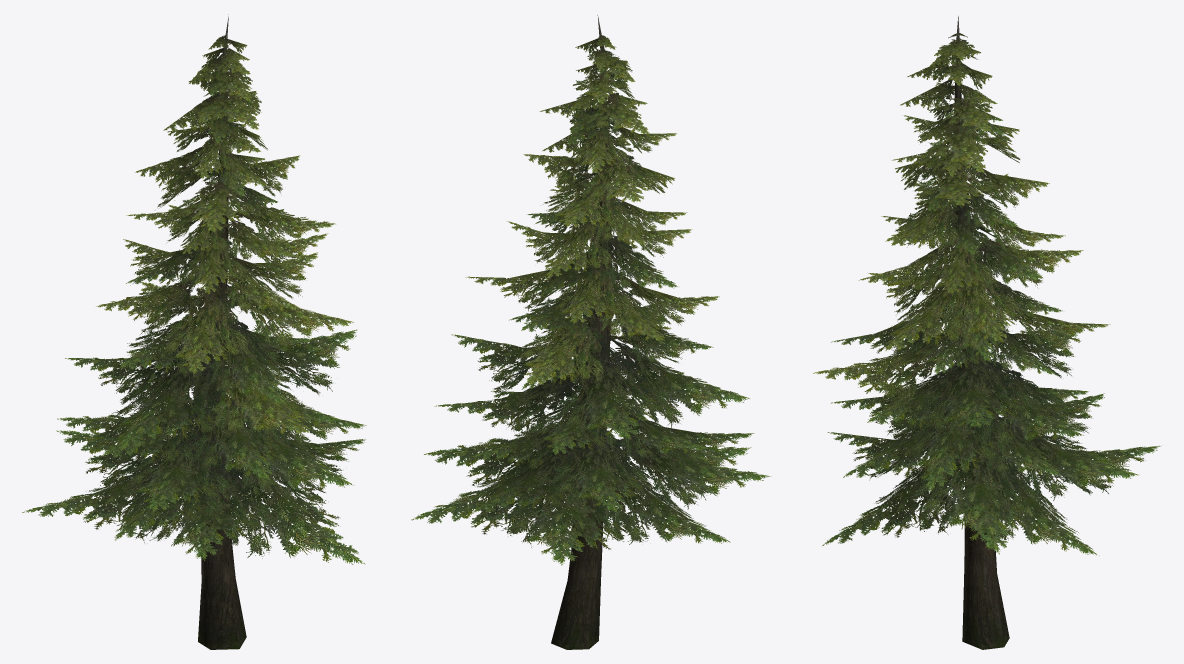
The model's file is yw_huanghunhupan_shu01.FBX.
3 views of the same model, side by side, from view 1: azimuth 30°, elevation 25°; view 2: azimuth 150°, elevation 25°; view 3: azimuth 270°, elevation 25° (orthographic). The views are drawn at different scales.
Visible parts, largest first — view 1: yw_huanghunhupan_shu01; view 2: yw_huanghunhupan_shu01; view 3: yw_huanghunhupan_shu01.
Part boxes in pixels (bbox=[...]): yw_huanghunhupan_shu01: bbox=[22, 14, 366, 649]; yw_huanghunhupan_shu01: bbox=[411, 15, 771, 649]; yw_huanghunhupan_shu01: bbox=[813, 16, 1160, 649].
Size of the model in its own units: 634 by 1119 by 591.
